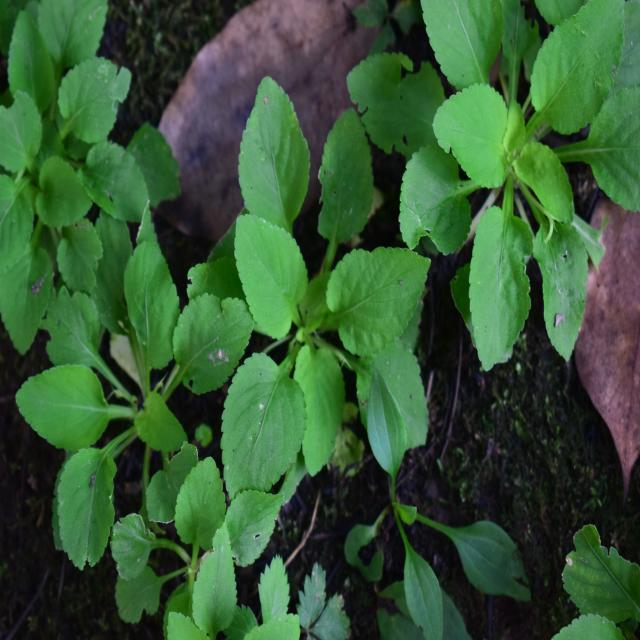Viola: (409, 12, 640, 367), (207, 130, 432, 447)
